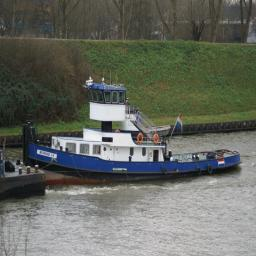tugboat: (21, 75, 245, 189)
